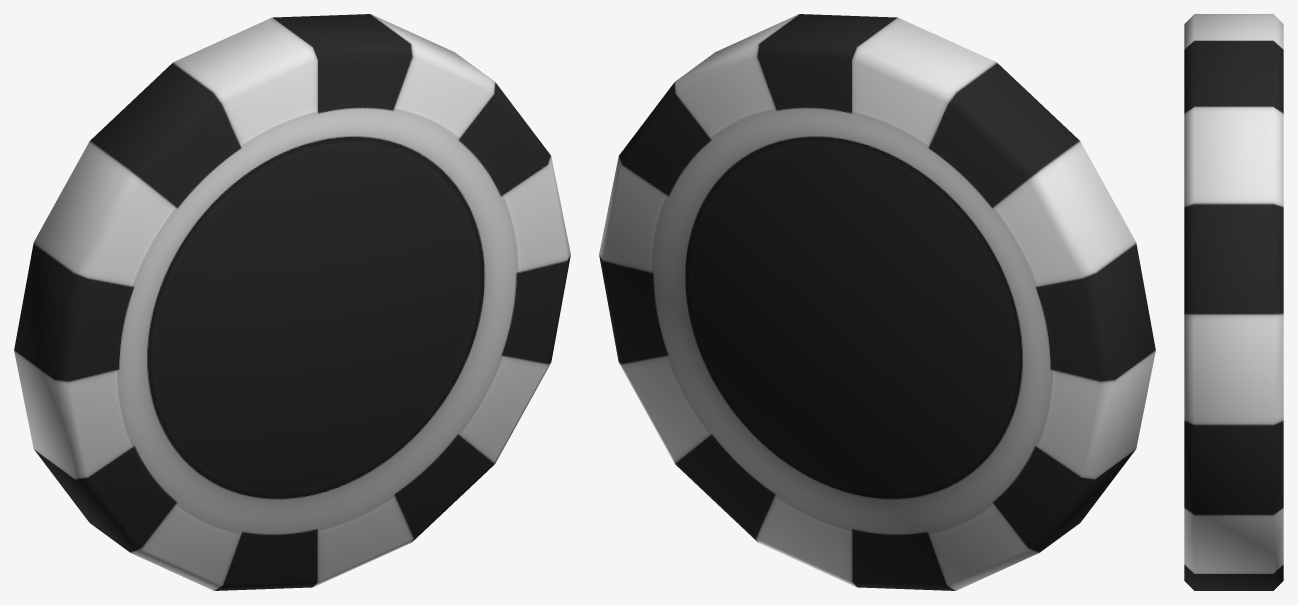
The model's file is CasinoChip_Black.FBX.
The picture shows the model from 3 angles, left to right: view 1: azimuth 30°, elevation 25°; view 2: azimuth 150°, elevation 25°; view 3: azimuth 270°, elevation 25°; orthographic projection. The views are drawn at different scales.
Visible parts, largest first — view 1: CasinoChip_Black; view 2: CasinoChip_Black; view 3: CasinoChip_Black.
Part boxes in pixels (left/top/right/bottom): CasinoChip_Black: left=14, top=14, right=570, bottom=590; CasinoChip_Black: left=599, top=14, right=1155, bottom=590; CasinoChip_Black: left=1184, top=14, right=1283, bottom=590.
Bounding box in the file's own units: 70 × 70 × 12.
Materials: 1 (1 with a texture image).
